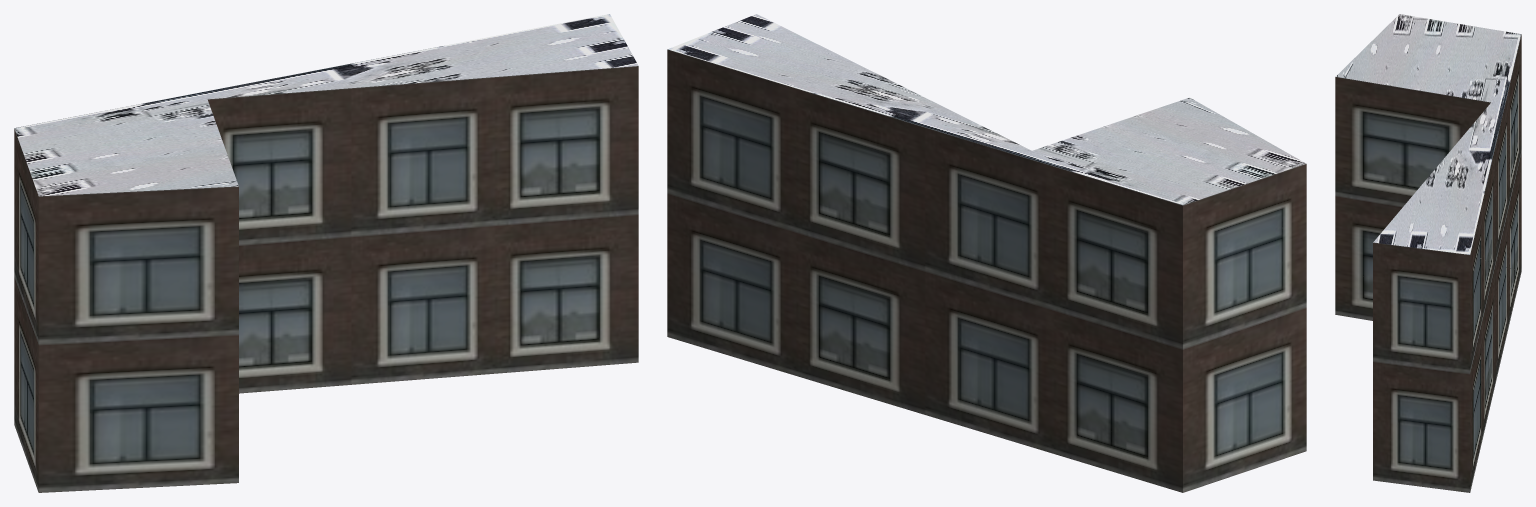
Rendered from ResTex__2355.fbx.
The picture shows the model from 3 angles, left to right: view 1: azimuth 30°, elevation 25°; view 2: azimuth 150°, elevation 25°; view 3: azimuth 270°, elevation 25°; orthographic projection. The views are drawn at different scales.
Visible parts, largest first — view 1: CityEngineMaterial_16_m, CityEngineMaterial_15_m; view 2: CityEngineMaterial_16_m, CityEngineMaterial_15_m; view 3: CityEngineMaterial_16_m, CityEngineMaterial_15_m.
Part boxes in pixels (box(x1,y1,x2,y2)): CityEngineMaterial_16_m: box(14, 66, 638, 492); CityEngineMaterial_15_m: box(14, 14, 638, 196); CityEngineMaterial_16_m: box(667, 49, 1306, 492); CityEngineMaterial_15_m: box(668, 14, 1306, 205); CityEngineMaterial_16_m: box(1335, 34, 1521, 492); CityEngineMaterial_15_m: box(1335, 14, 1521, 254).
Size of the model in its own units: 13.03 by 6 by 4.25.
2 materials, 2 textured.
